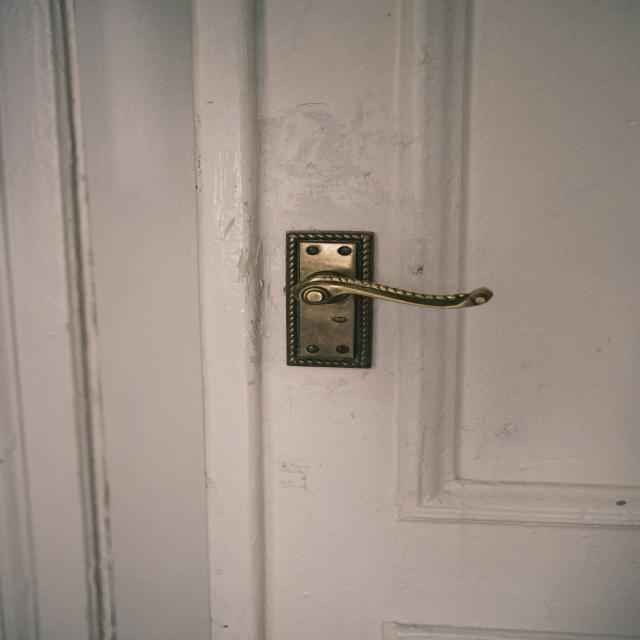door-handle: (291, 271, 493, 309)
